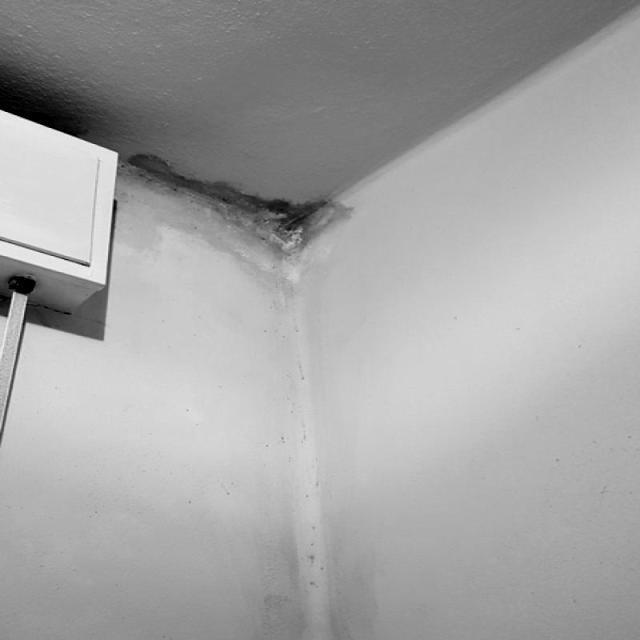stain marks: (115, 134, 368, 316)
